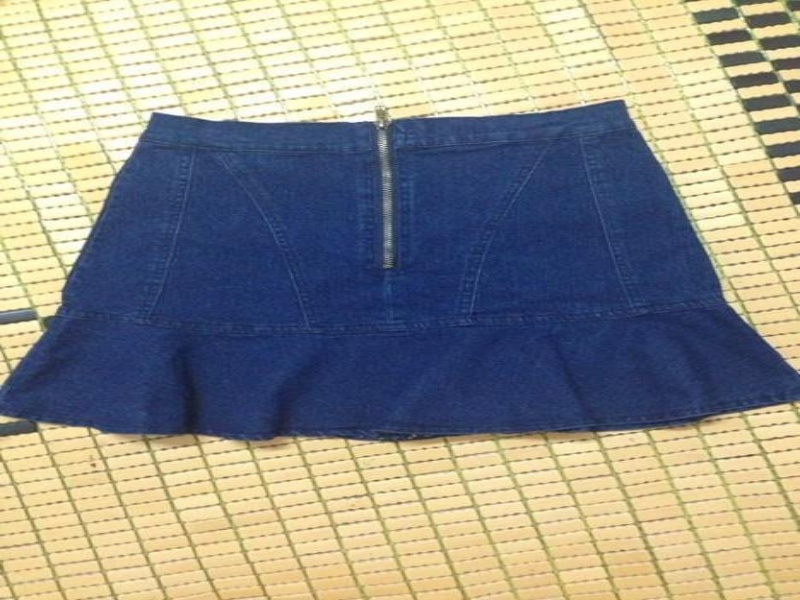skirt: (2, 99, 798, 445)
